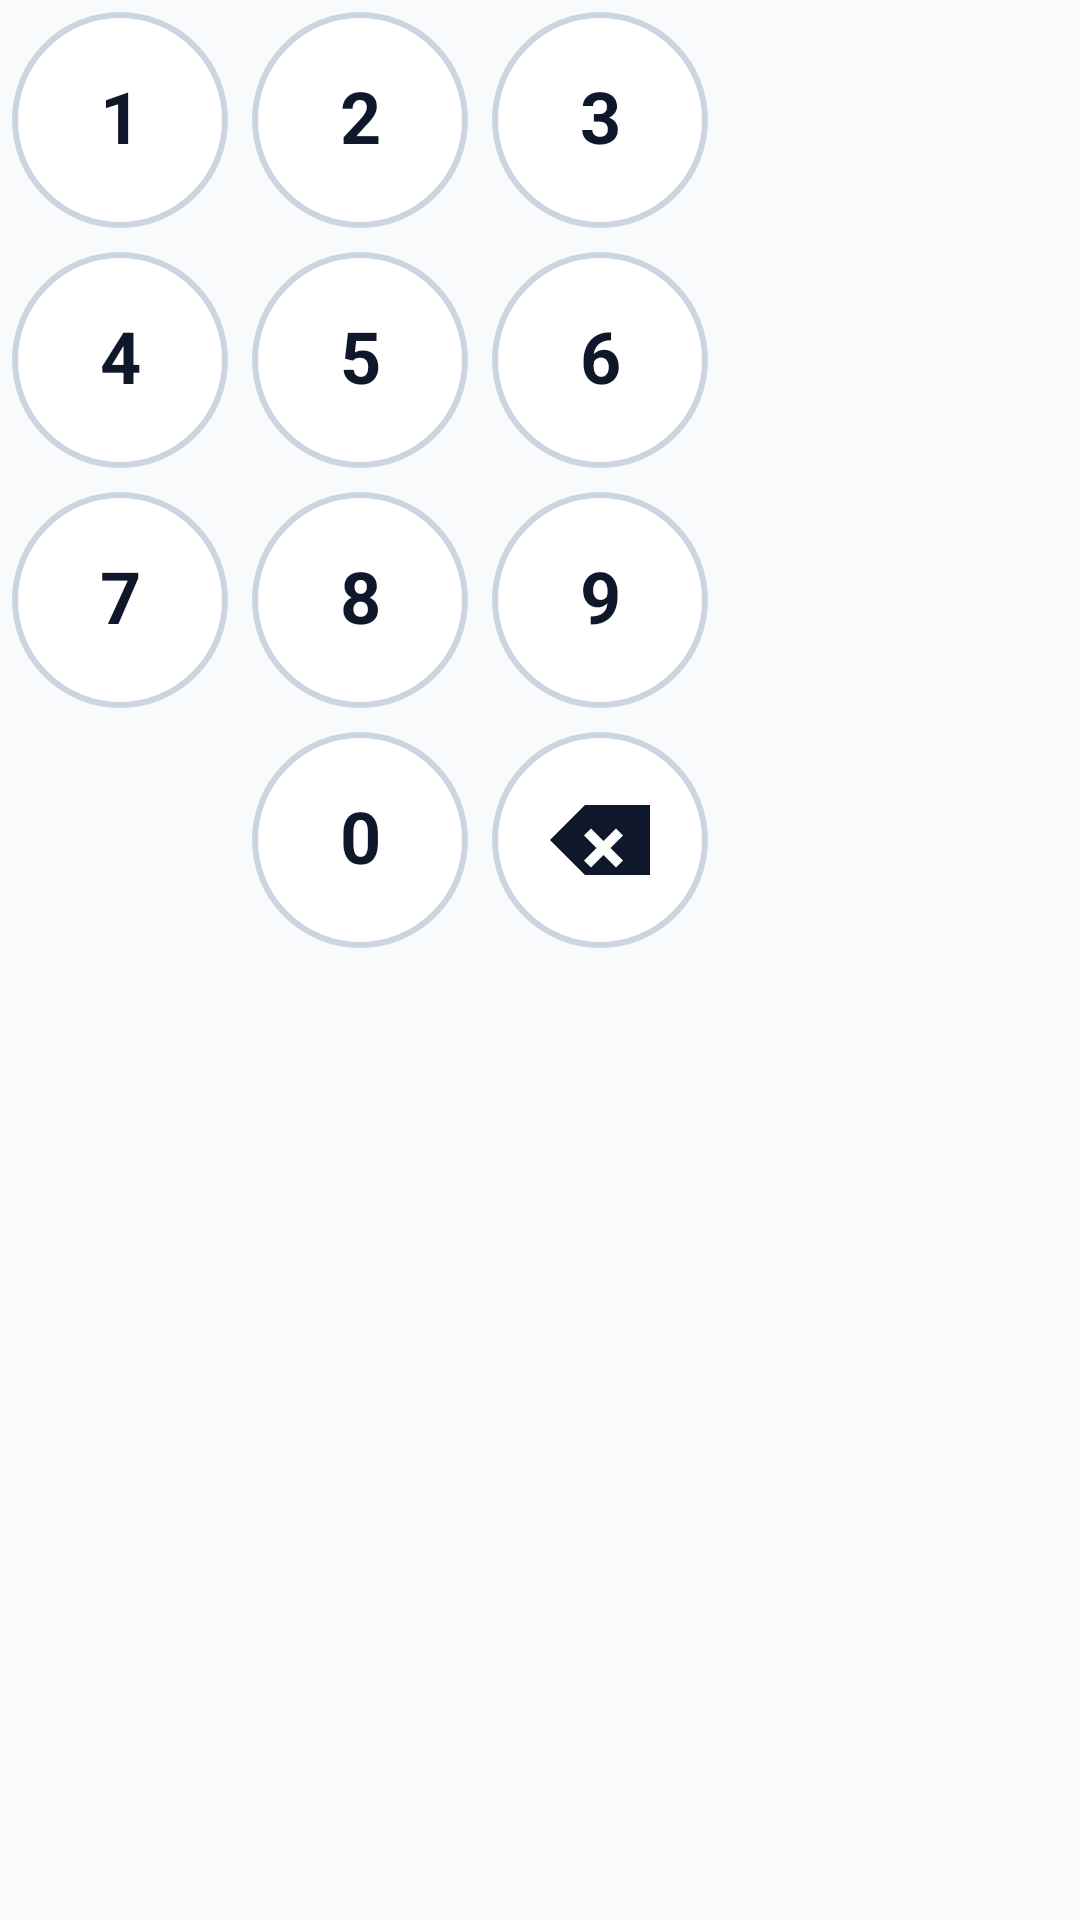

Icons on this 1080w x 1920h Android screen, each with its box as (x1, y1, x2, y2):
Delete last digit: (492, 732, 708, 948)
